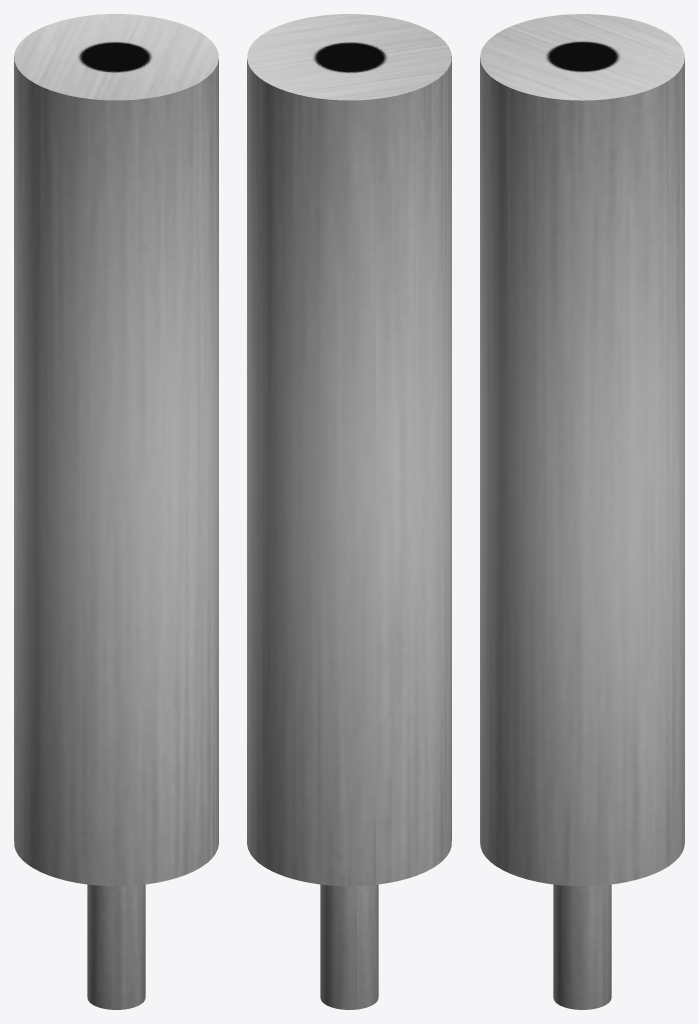
The model's file is pole_middle.dae.
3 views of the same model, side by side, from view 1: azimuth 30°, elevation 25°; view 2: azimuth 150°, elevation 25°; view 3: azimuth 270°, elevation 25° (orthographic).
Parts seen in each view (by area): view 1: _f_poll; view 2: _f_poll; view 3: _f_poll.
Boxes of the visible parts, box(x1,y1,x2,y2) form: _f_poll: box(14, 14, 218, 1009); _f_poll: box(247, 14, 451, 1009); _f_poll: box(480, 14, 684, 1009).
Size of the model in its own units: 0.012 by 0.012 by 0.0608.
1 material, 1 textured.
